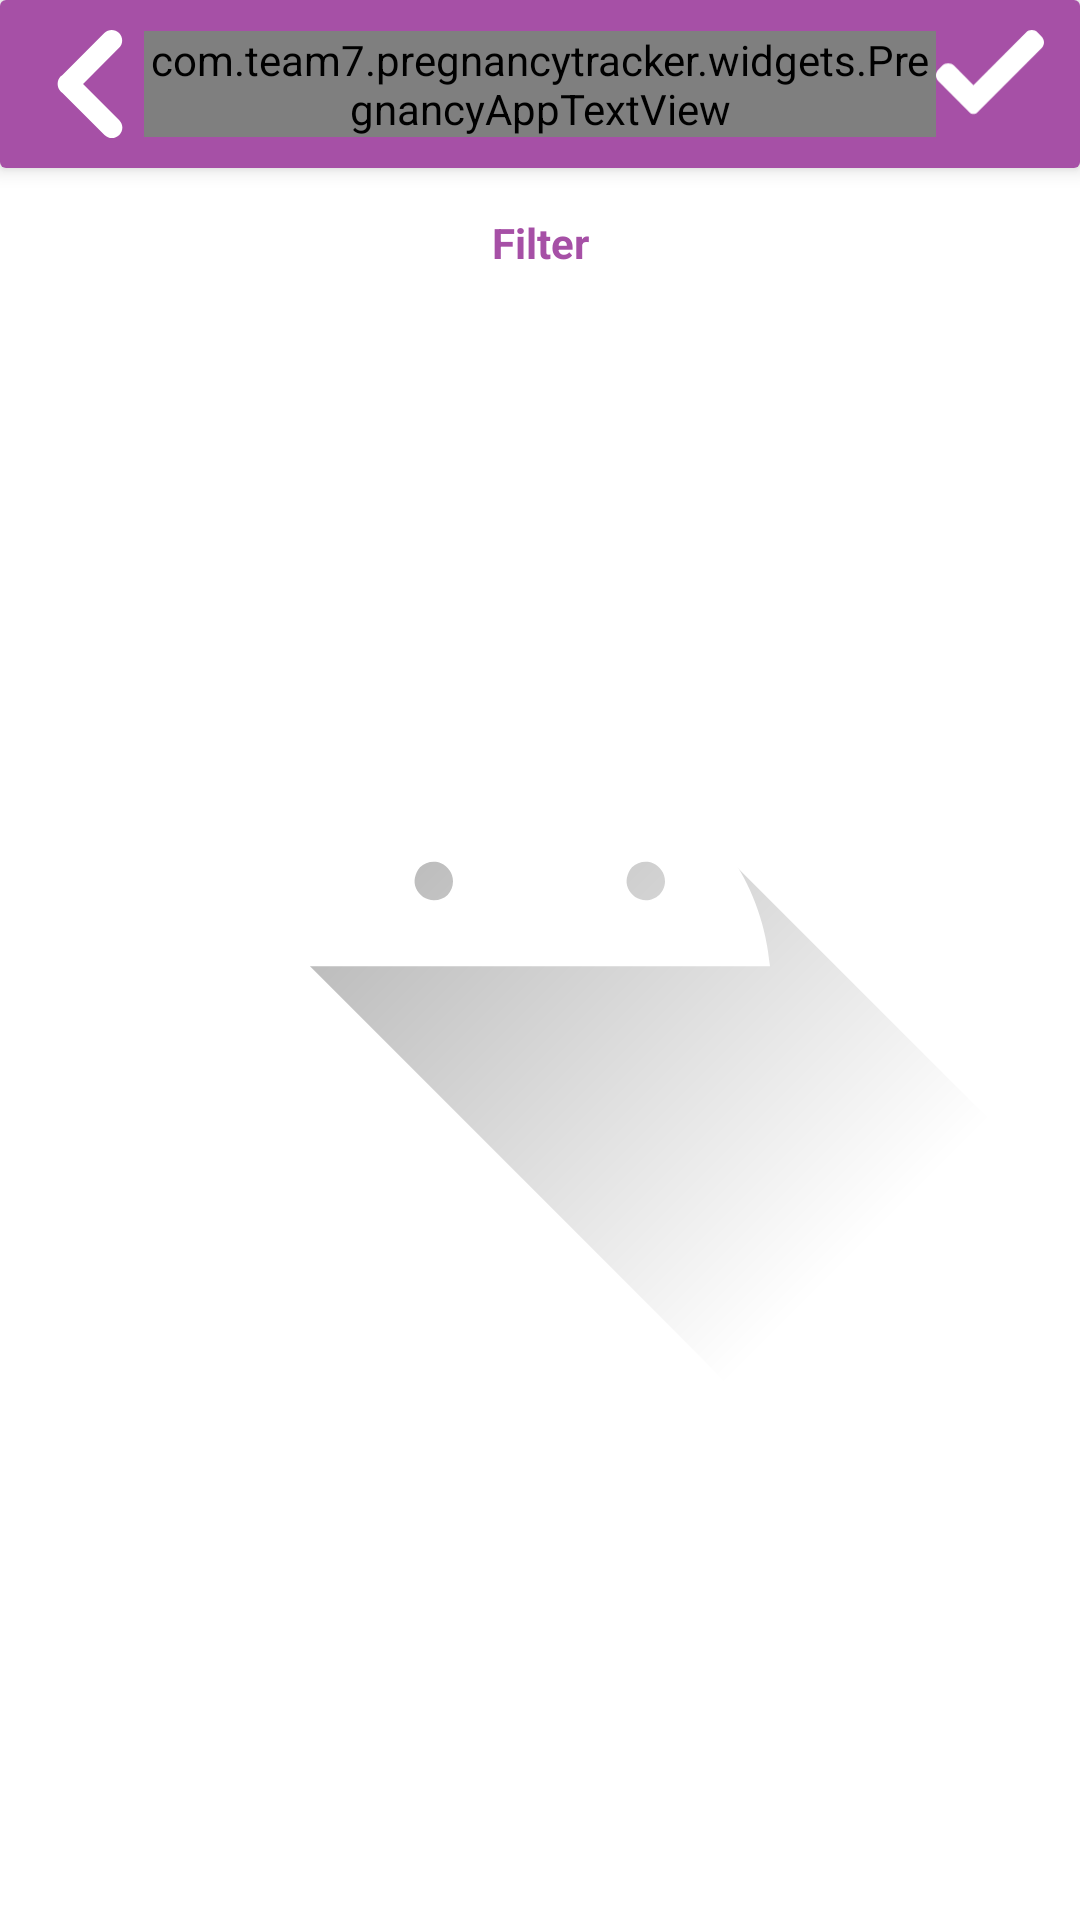

Icons on this 1080*1920 Android screen, each with the point to tap as [x,y]:
back: [90,84]
check: [990,72]
